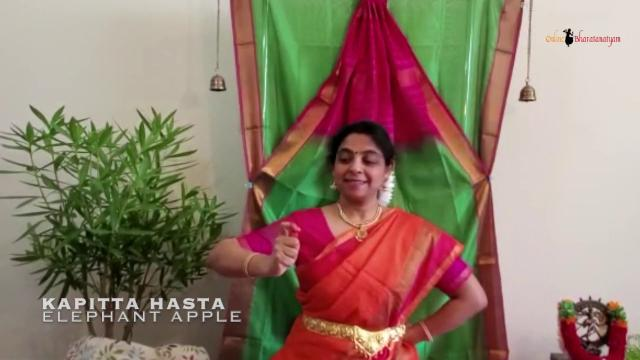kapitth: (250, 216, 312, 284)
